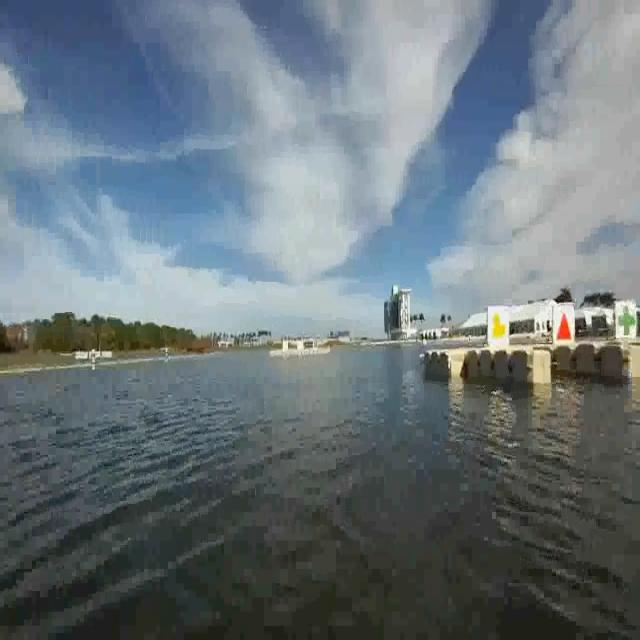blue-cross: (618, 301, 636, 337)
red-dot: (554, 305, 576, 347)
yellow-duck: (491, 309, 507, 337)
